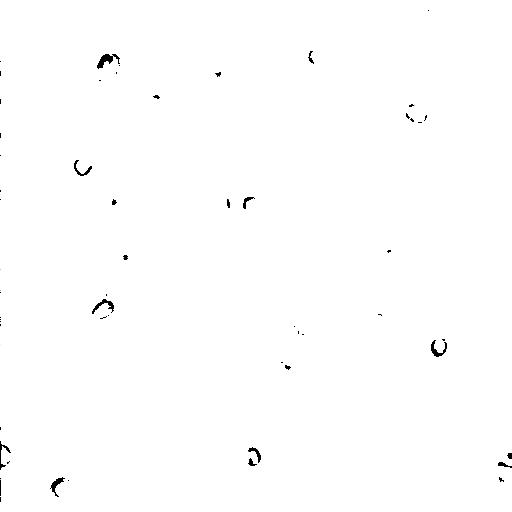micro-algae: (158, 1, 261, 90), (190, 165, 281, 257), (387, 261, 453, 327), (115, 0, 172, 38), (485, 237, 511, 311), (208, 337, 250, 381), (324, 321, 362, 358), (93, 51, 125, 87), (280, 0, 339, 19), (0, 101, 27, 134), (48, 475, 79, 503), (205, 58, 233, 89), (294, 79, 323, 108), (360, 305, 388, 333), (401, 101, 429, 127), (101, 187, 125, 217), (116, 243, 139, 274), (270, 351, 298, 376), (89, 281, 115, 307), (413, 61, 439, 87), (363, 13, 387, 41), (286, 315, 313, 338), (488, 465, 512, 489), (90, 299, 116, 321), (375, 235, 398, 257), (239, 445, 261, 467), (72, 156, 95, 177), (299, 155, 319, 179), (429, 336, 448, 358), (308, 45, 327, 65), (425, 0, 443, 21), (1, 442, 15, 468), (497, 440, 511, 466), (244, 195, 262, 214), (218, 195, 232, 211)
